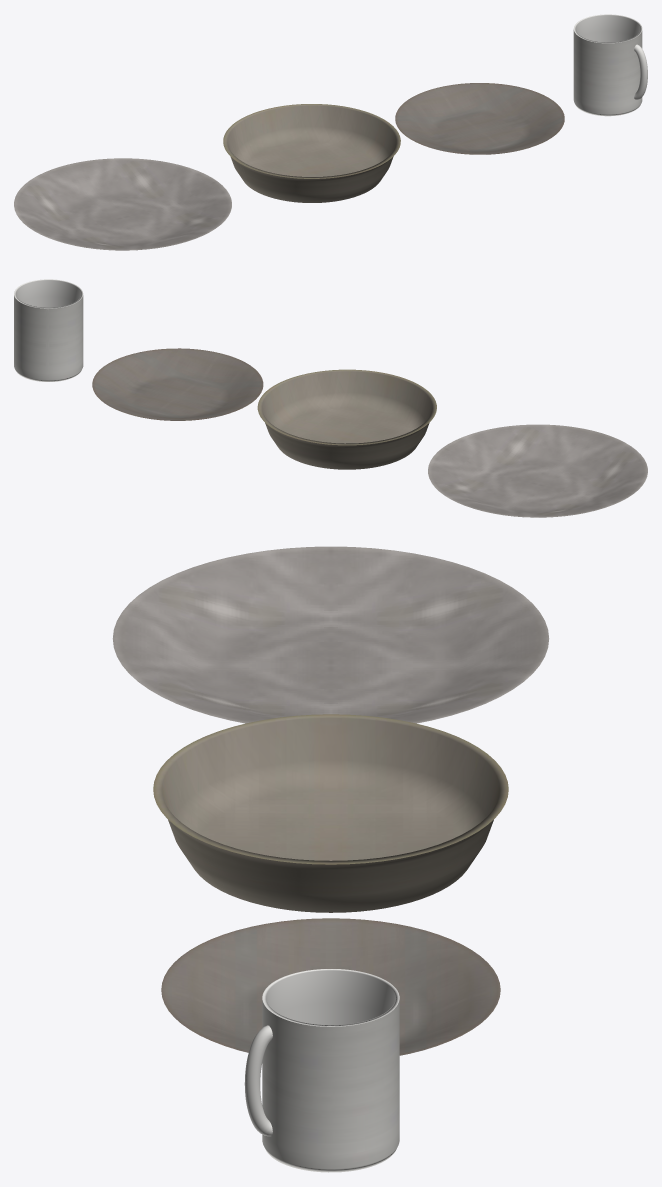
File: BLC-12.glb
3 renders of one model, top to bottom at view 1: azimuth 30°, elevation 25°; view 2: azimuth 150°, elevation 25°; view 3: azimuth 270°, elevation 25°, orthographic. The views are drawn at different scales.
Bounding box in the file's own units: 0.8705 × 0.1 × 0.27.
Materials: 9 (7 with a texture image).
